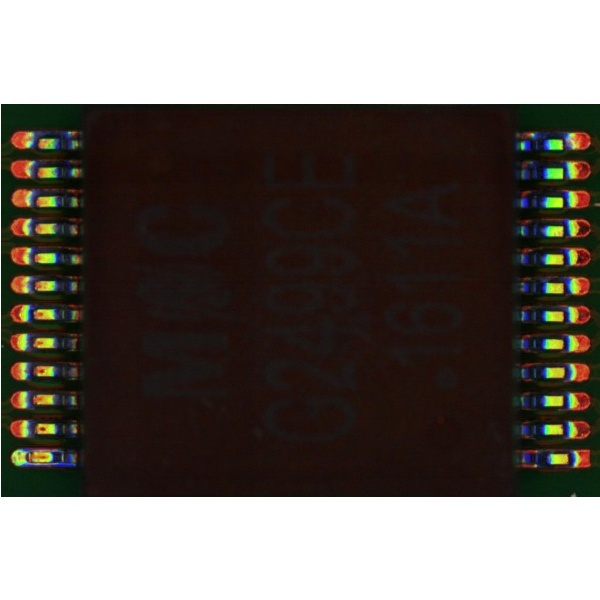Bad_qiaojiao: (26, 462, 60, 466)
